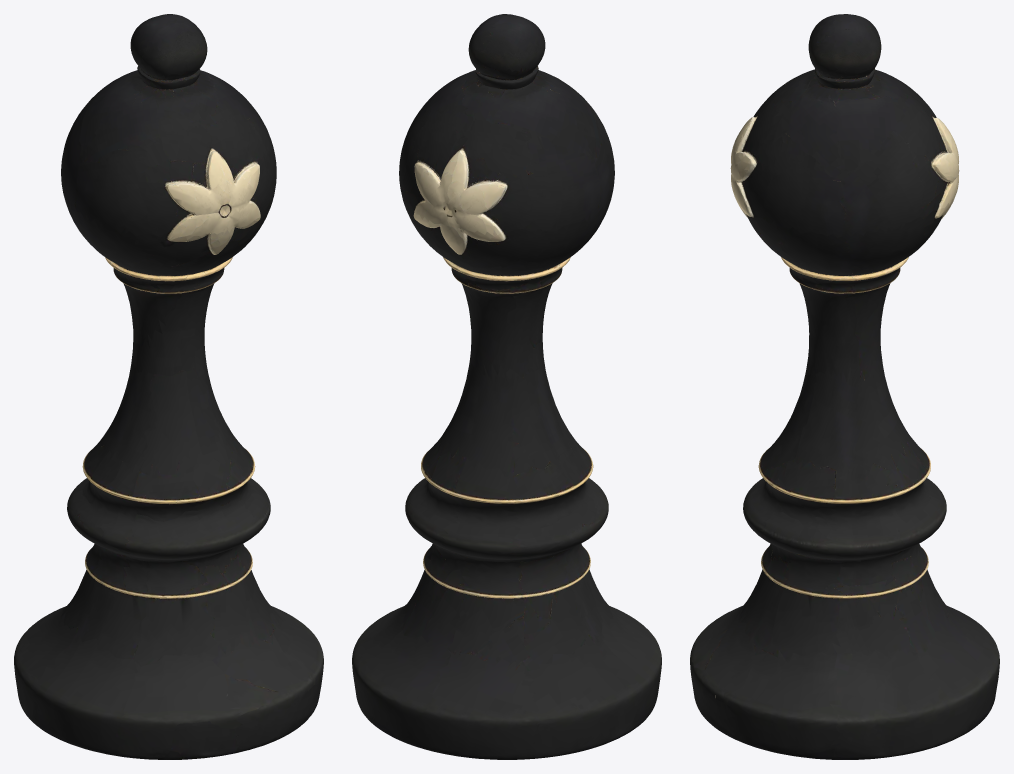
The model's file is pion-sombre.glb.
3 renders of one model, left to right at view 1: azimuth 30°, elevation 25°; view 2: azimuth 150°, elevation 25°; view 3: azimuth 270°, elevation 25°, orthographic.
Size of the model in its own units: 0.7851 by 1.9 by 0.7848.
Materials: 1 (1 with a texture image).
